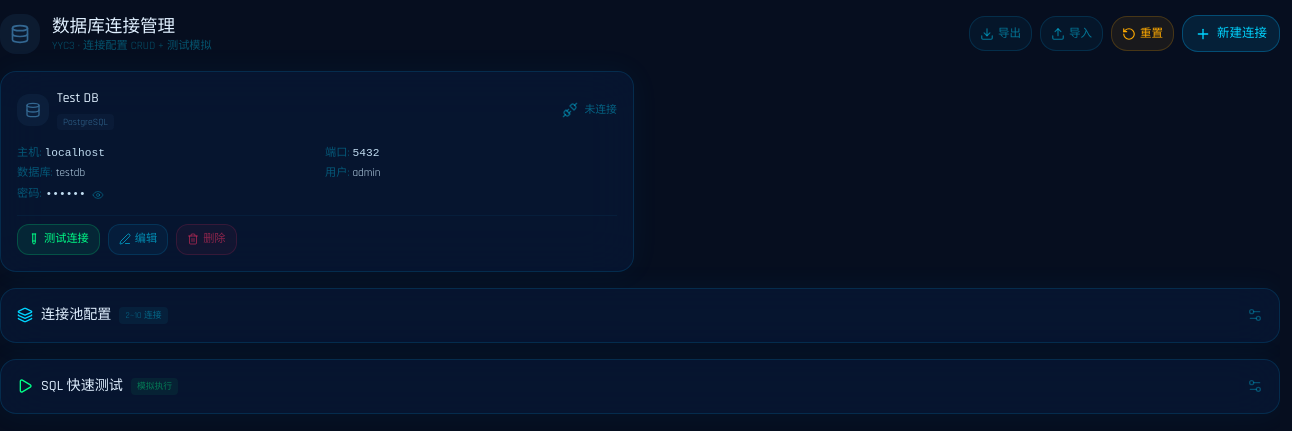
Test: DatabaseConnectionPanel › 编辑连接 › enters edit mode
What coordinates should you click on to do the following:
click the button "编辑"
I would click on:
 (138, 239)
Its box is [108,224,168,255].
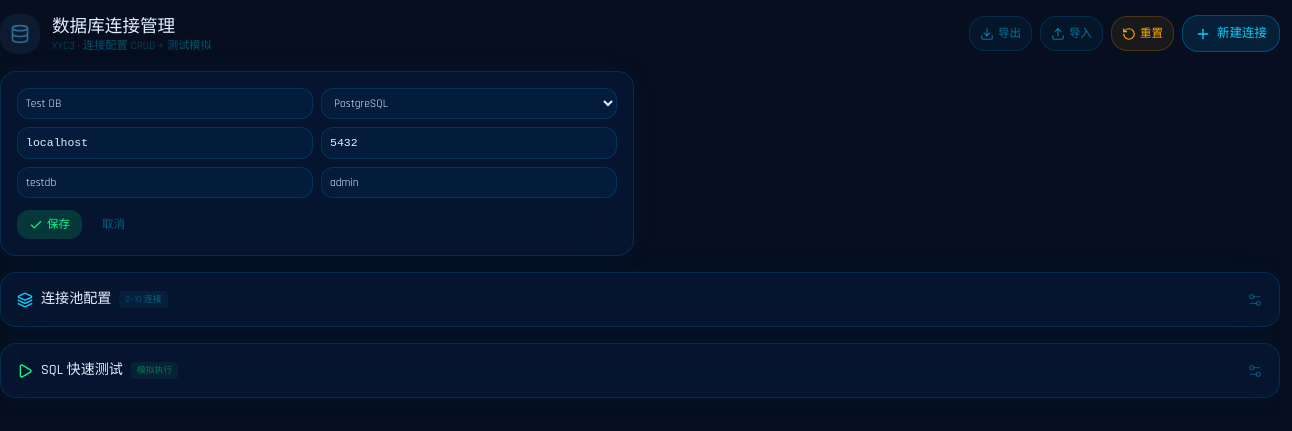
Expected: the button "保存" is shown, [17,210,82,239]
